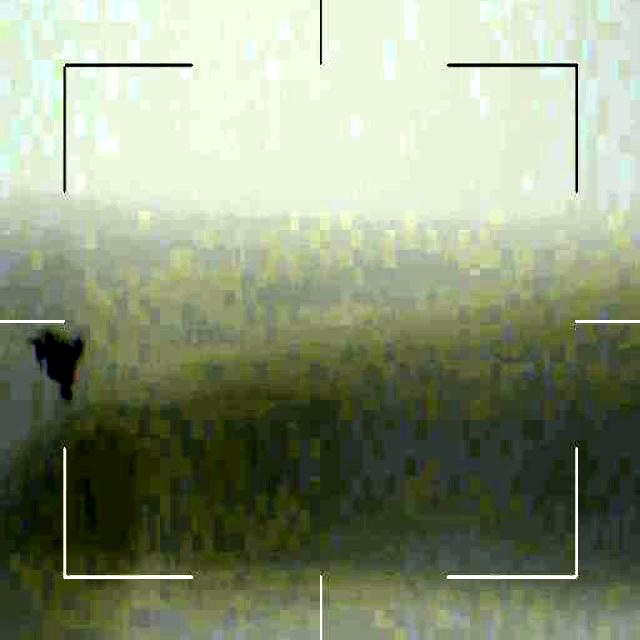bird: (31, 325, 91, 394)
